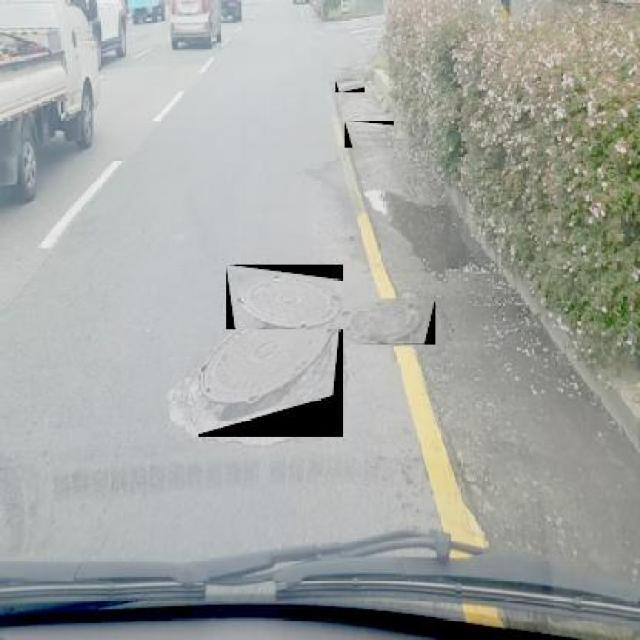Manhole: (198, 329, 344, 437), (226, 264, 343, 330), (342, 298, 436, 344), (346, 120, 394, 148), (336, 78, 364, 92)
